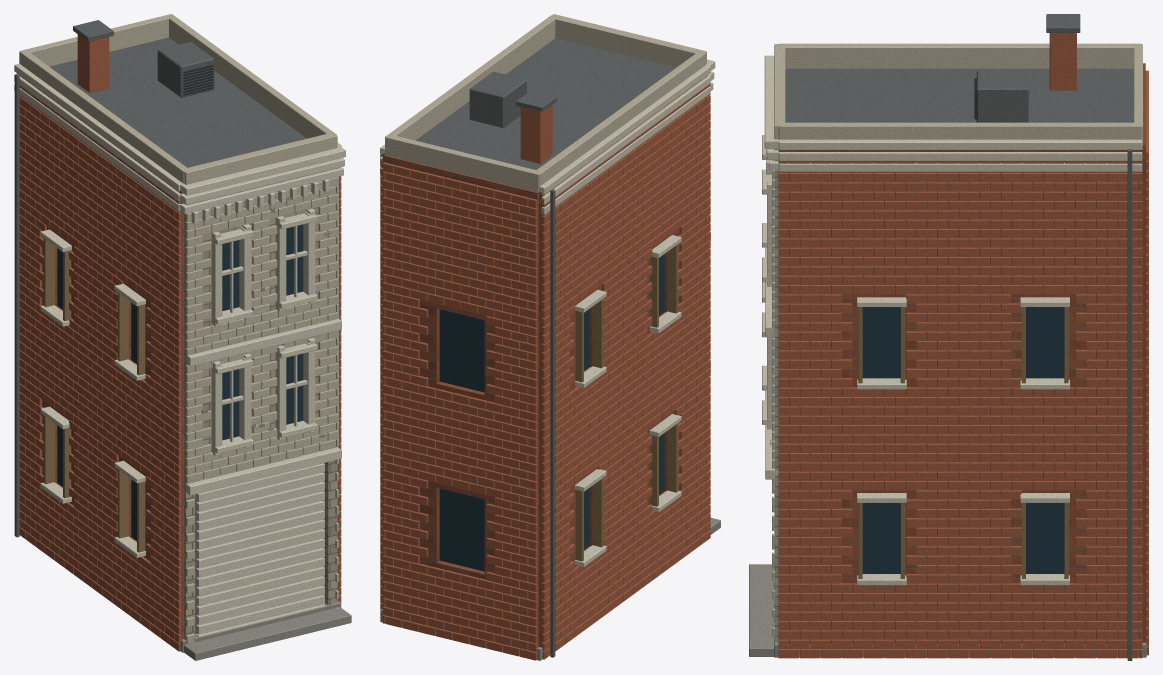
Rendered from WHSE20_lod0.glb.
3 renders of one model, left to right at view 1: azimuth 30°, elevation 25°; view 2: azimuth 150°, elevation 25°; view 3: azimuth 270°, elevation 25°, orthographic. The views are drawn at different scales.
Parts seen in each view (by area): view 1: WHSE20_LOD0; view 2: WHSE20_LOD0; view 3: WHSE20_LOD0.
Part boxes in pixels (<box>): WHSE20_LOD0: <box>14,14,351,660</box>; WHSE20_LOD0: <box>380,14,720,660</box>; WHSE20_LOD0: <box>749,14,1148,660</box>.
Size of the model in its own units: 3.71 by 10.45 by 6.6.
Materials: 15 (13 with a texture image).
